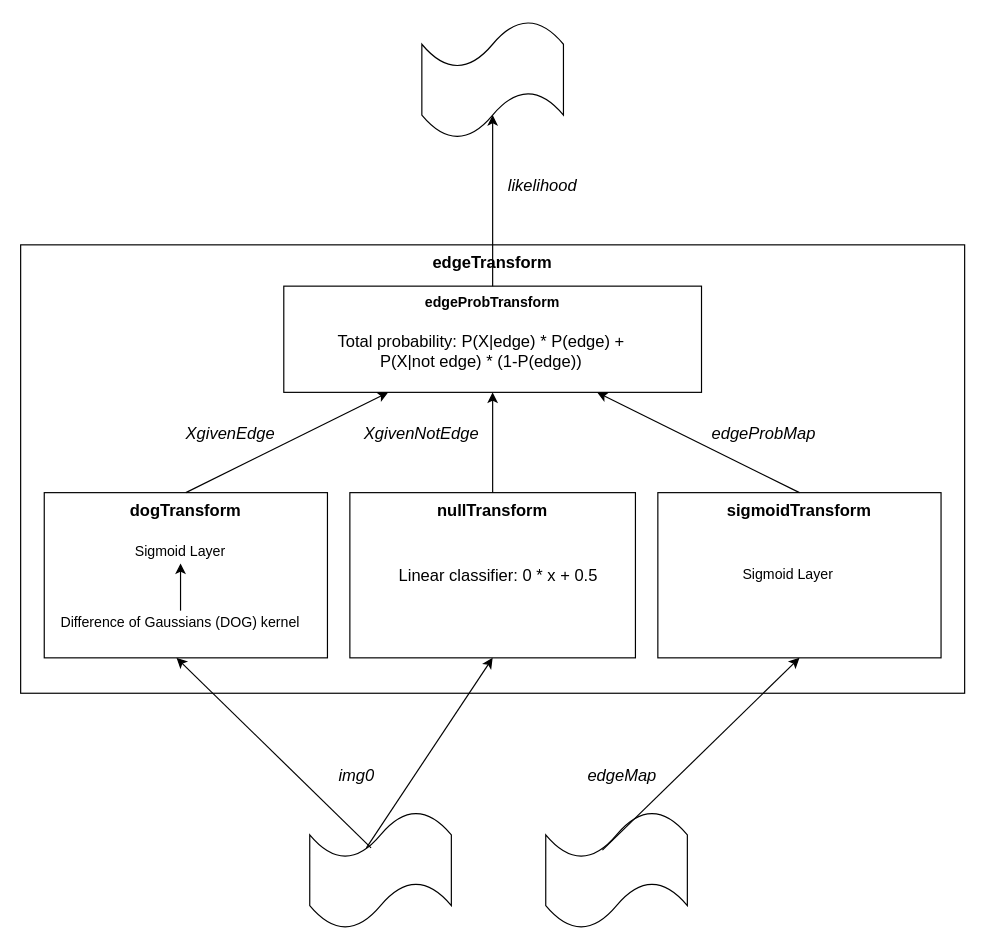
Some shapes in this 985 by 950 pixel diagram are drawn without their labels. The shapes that lost their labels are listed below. From the top down, each one's centre as x and y in pixels, then its label:
At point (492, 79): "Likelihood array".
At point (380, 869): "Image".
At point (616, 869): "Edge map".
